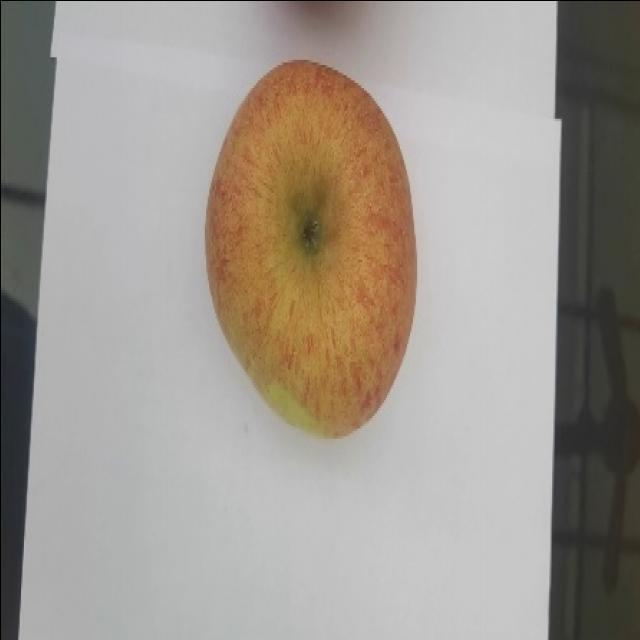Apple: (203, 58, 417, 439)
